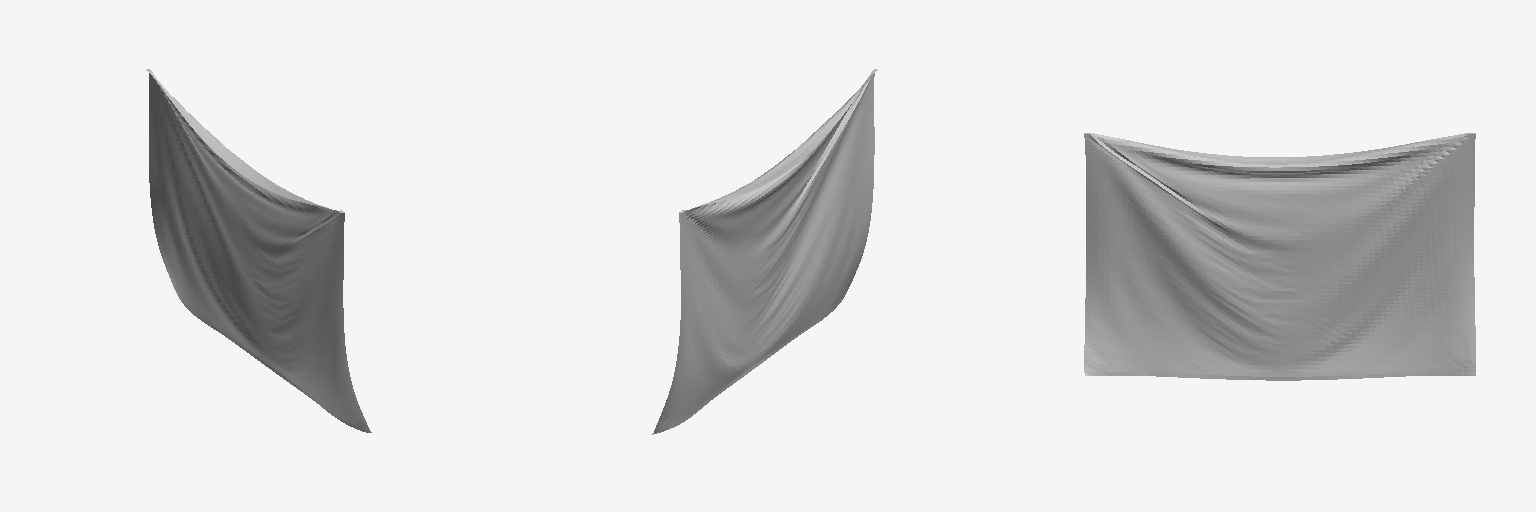
File: Flag.obj
3 renders of one model, left to right at view 1: azimuth 30°, elevation 25°; view 2: azimuth 150°, elevation 25°; view 3: azimuth 270°, elevation 25°, orthographic.
Visible parts, largest first — view 1: Flag; view 2: Flag; view 3: Flag.
Boxes of the visible parts, box(x1,y1,x2,y2) form: Flag: box(146, 69, 371, 432); Flag: box(652, 69, 877, 434); Flag: box(1084, 133, 1475, 380).
Bounding box in the file's own units: 0.3472 × 2.05 × 3.1.